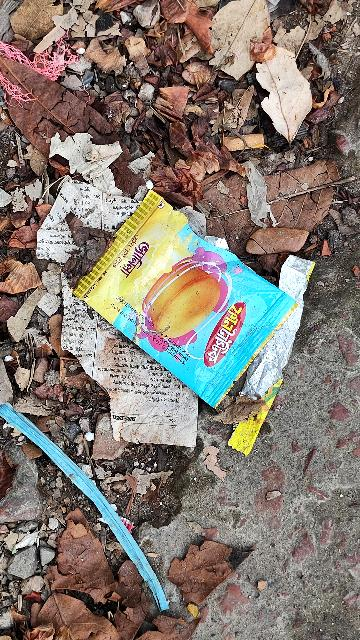packet: (56, 175, 300, 415)
